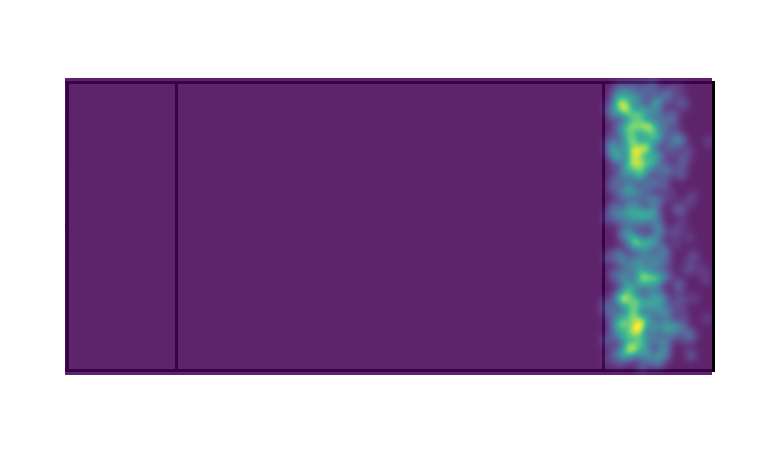

What the dashboard file says about the page in this screenshot:
{"tool":"powerbi","page":{"name":"DFThrower Compare","canvas":[1280,720],"ordinal":7},"visuals":[{"type":"BoxandWhiskerByMAQ1823AD39DT234AB532063E128AX","fields":{"categoryGroup":["throwInfoDF.type"],"category":["throwInfoDF.ID"],"measure":["Sum(throwInfoDF.dist)"],"xCategoryParent":["TBvsPHX (6).rostersAway.player.last_name"]},"box":[10.5,0,1269.5,720.3],"z":0}]}

Visuals, with their boxes on the page's 1280x720 design canvas (x1, y1, x2, y2). These are canvas units, not pixel positions in the 768x454 screenshot, which may show the page scaled, cropped or inside an application window:
BoxandWhiskerByMAQ1823AD39DT234AB532063E128AX - throwInfoDF.type x throwInfoDF.ID: <region>10, 0, 1280, 720</region>
